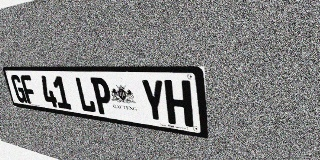1: (51, 76, 72, 110)
4: (39, 76, 58, 108)
F: (20, 75, 38, 105)
G: (10, 75, 27, 103)
H: (164, 80, 193, 127)
L: (74, 77, 97, 113)
P: (90, 77, 114, 116)
Y: (140, 79, 167, 123)
